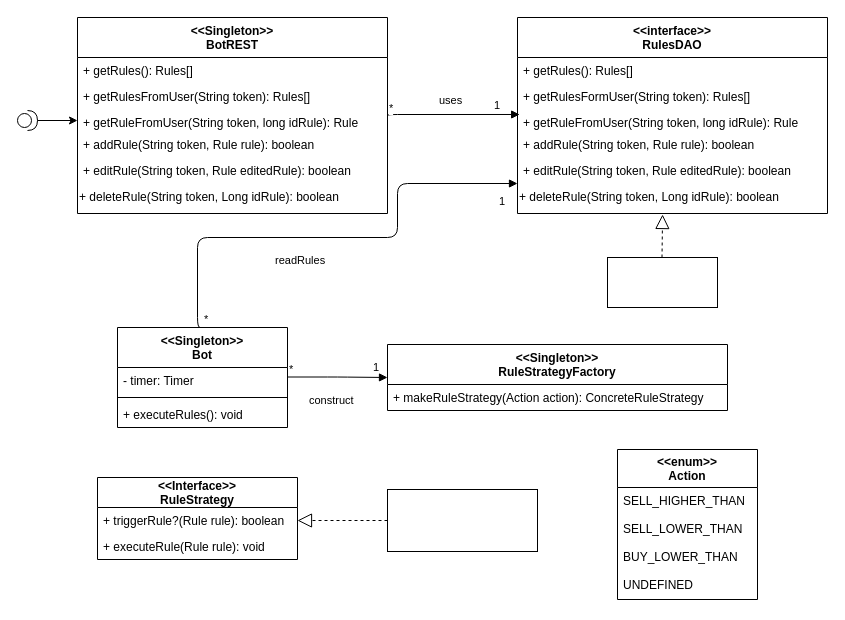
This 845x620 diagram has some shape labels left out. Here are the shapes that lost their labels. From the top down, the box of each, then its label:
(606, 256, 718, 308): <<Singleton>> RulesStore
(386, 488, 538, 552): ConcreteRuleStrategy
